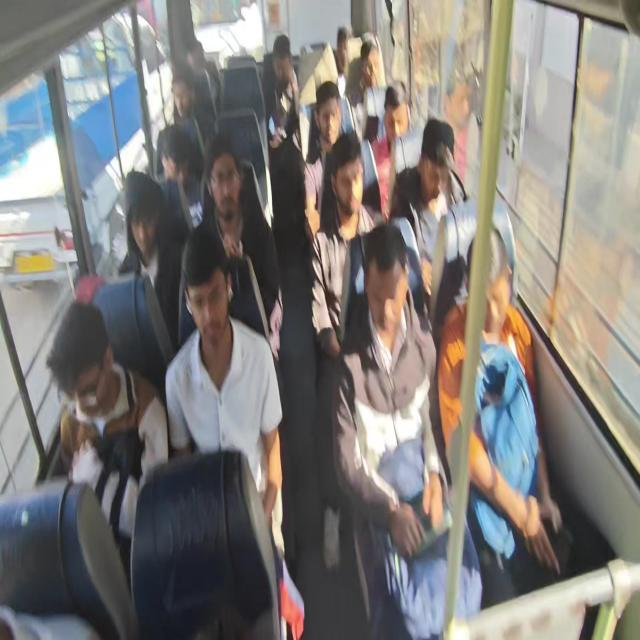person: (50, 314, 115, 424), (357, 233, 414, 346), (185, 246, 237, 343), (126, 172, 172, 268), (472, 234, 512, 344), (204, 153, 254, 231), (418, 130, 459, 214), (153, 125, 194, 195), (331, 154, 364, 211), (381, 90, 407, 153), (183, 34, 215, 84), (271, 36, 297, 88), (320, 97, 345, 151), (358, 38, 382, 87), (172, 77, 198, 120), (340, 36, 354, 68)
